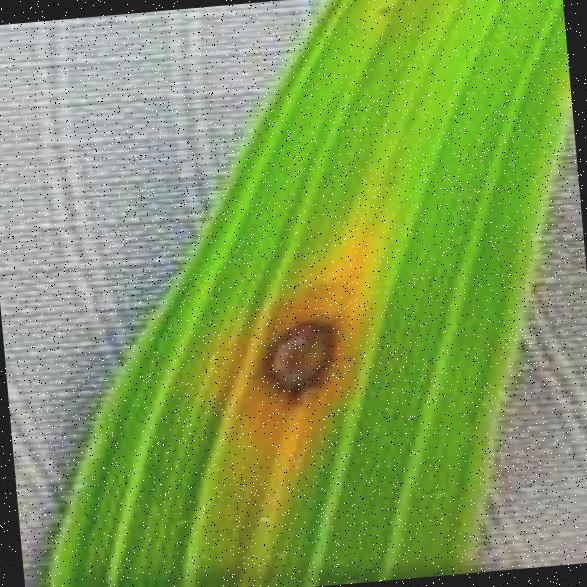Brown_Spot: (230, 296, 367, 426), (368, 0, 399, 19)
